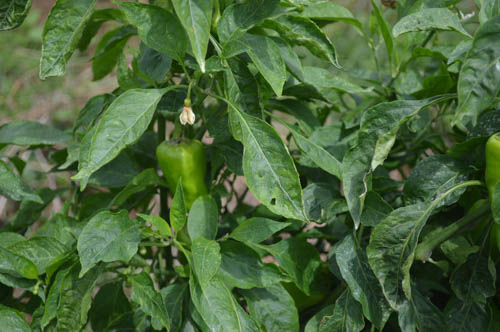ChiliPepper: (158, 141, 212, 210)
